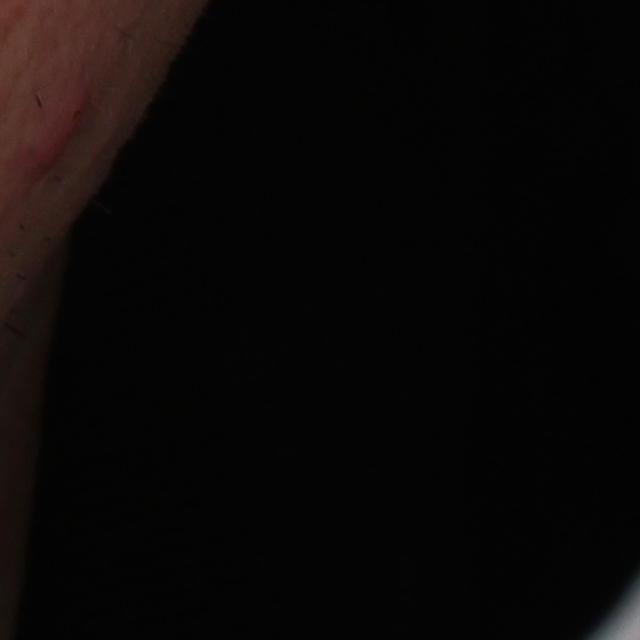papule: (24, 74, 97, 192)
